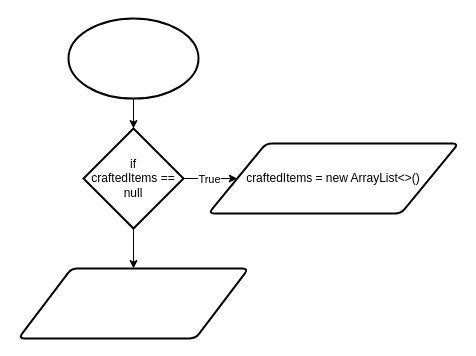
The diagram is 476 pixels wide and 356 high, and some of its shapes have lost their labels. Here are the shapes that lost their labels. From the top down, the box of each, then its label:
(67, 17, 199, 99): addCraftedItem(int craftedItem) start
(17, 267, 249, 339): craftedItems.add(craftedItem)
